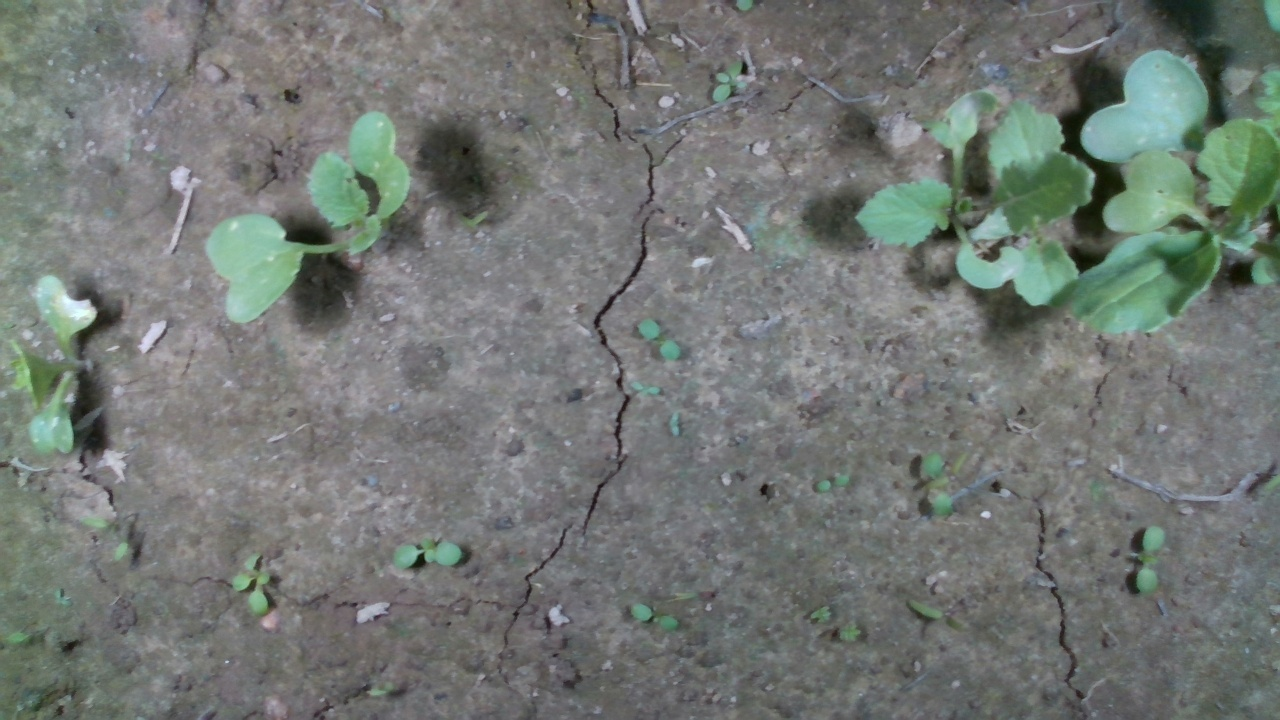weed: (226, 551, 272, 617), (391, 534, 462, 571), (1133, 523, 1167, 594), (906, 597, 971, 634), (636, 316, 683, 362), (628, 600, 680, 632), (711, 54, 744, 103), (813, 472, 851, 493), (628, 379, 662, 399), (52, 588, 74, 611), (666, 408, 681, 437)
